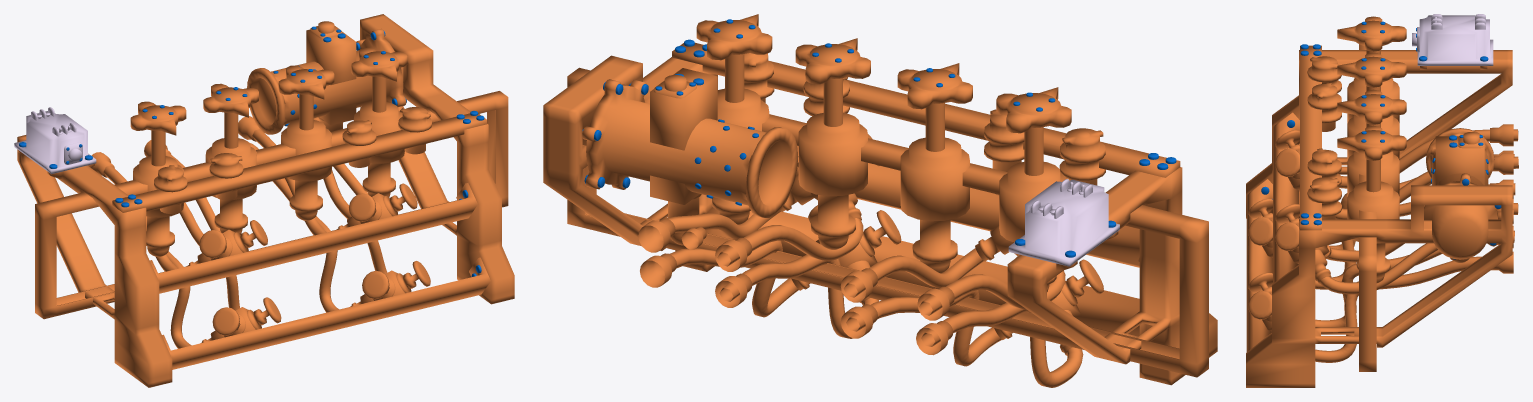
The model's file is Valves.fbx.
3 views of the same model, side by side, from view 1: azimuth 30°, elevation 25°; view 2: azimuth 150°, elevation 25°; view 3: azimuth 270°, elevation 25° (orthographic). The views are drawn at different scales.
Visible parts, largest first — view 1: Valves; view 2: Valves; view 3: Valves.
Part boxes in pixels (x1,y1,x2,y2): Valves: (14,14,514,387); Valves: (543,14,1217,387); Valves: (1246,14,1518,387).
Bounding box in the file's own units: 73.19 × 34.07 × 36.73.
